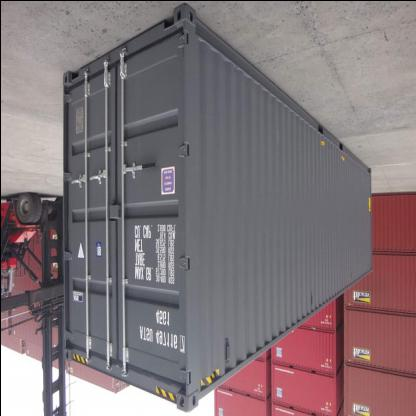Damage: (233, 265, 253, 294), (271, 115, 285, 149), (342, 264, 358, 284), (304, 287, 314, 311)
